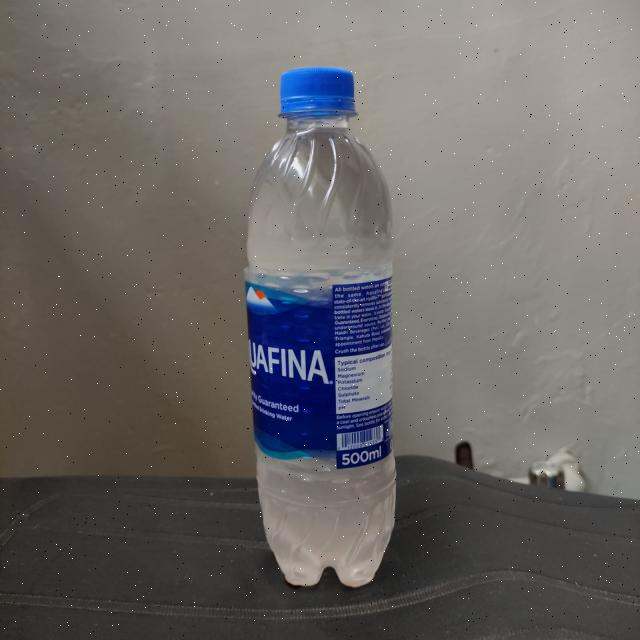bottle: (235, 59, 404, 587)
cap: (270, 63, 366, 128)
label: (247, 283, 400, 469)
